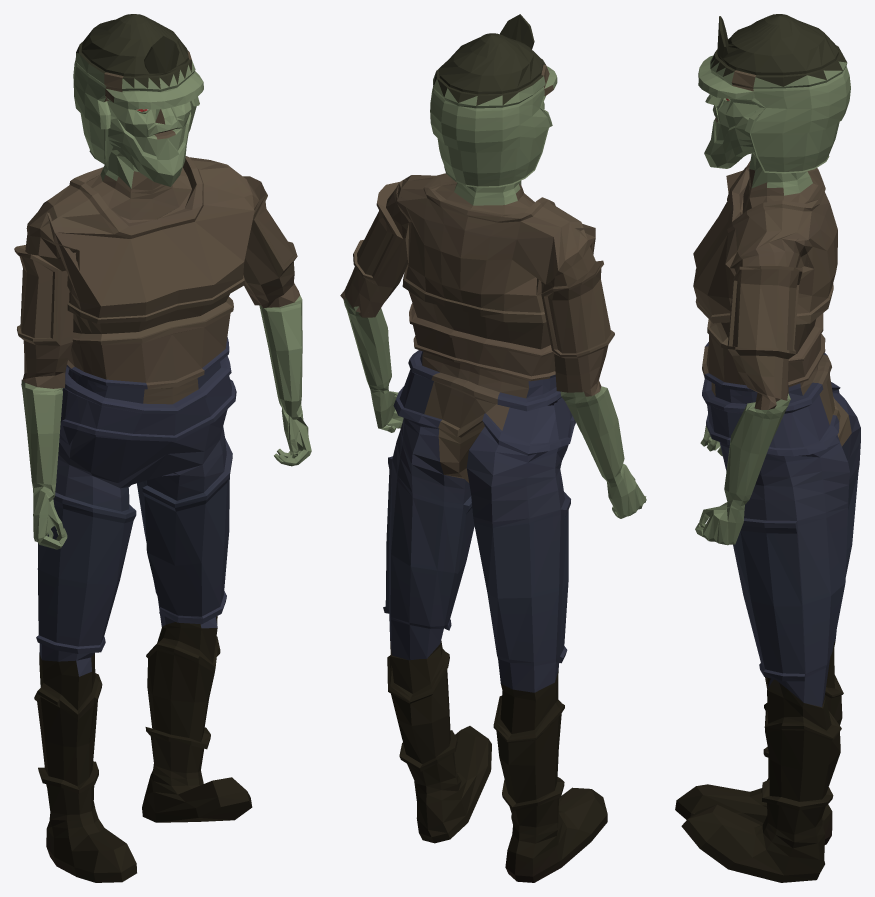
Rendered from zombie.glb.
3 renders of one model, left to right at view 1: azimuth 30°, elevation 25°; view 2: azimuth 150°, elevation 25°; view 3: azimuth 270°, elevation 25°, orthographic. The views are drawn at different scales.
Parts seen in each view (by area): view 1: geometry_0; view 2: geometry_0; view 3: geometry_0.
Boxes of the visible parts, bbox=[...] form: geometry_0: bbox=[14, 14, 311, 882]; geometry_0: bbox=[340, 14, 646, 882]; geometry_0: bbox=[675, 14, 860, 882].
Bounding box in the file's own units: 5.16 × 14.48 × 2.86.
